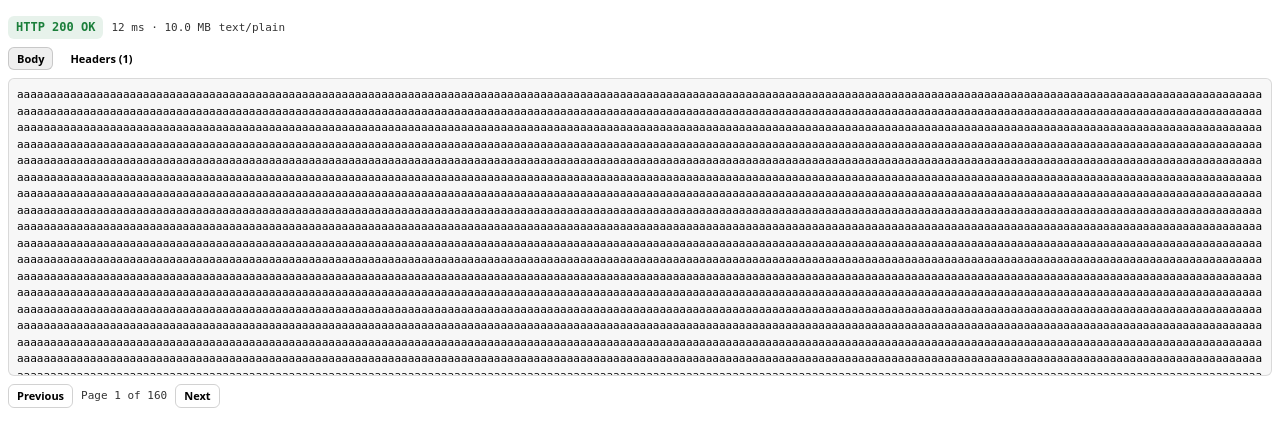
ResponseView › renders a 10 MB body one page at a time
Expected: the text "12 ms · 10.0 MB" is shown, [112, 20, 211, 35]
Expected: the text "Page 1 of 160" is shown, [81, 388, 167, 404]
Click the button "Next" at point(197, 396), box [175, 384, 220, 408]
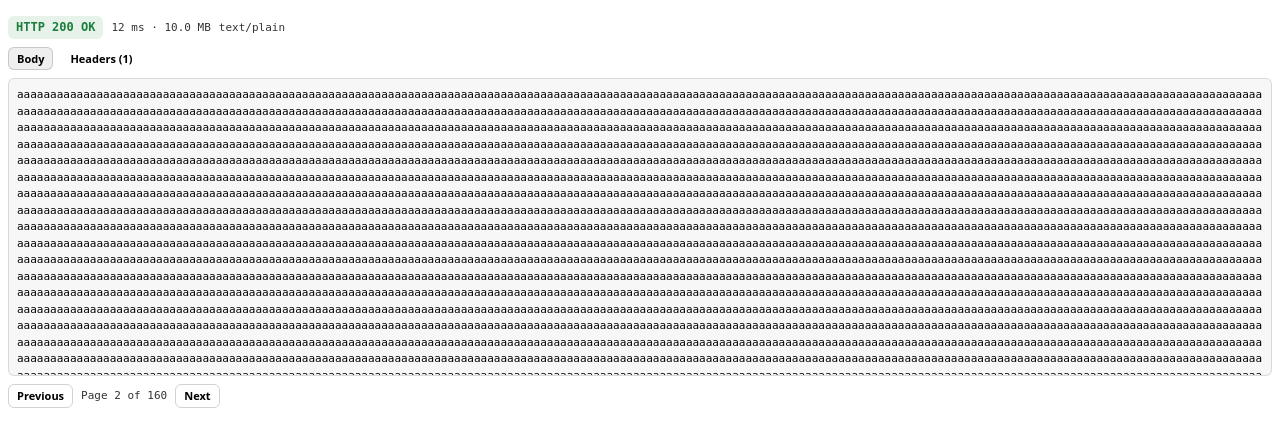
Expected: the text "Page 2 of 160" is shown, [81, 388, 167, 404]
Click the button "Previous" at point(41, 396), box [8, 384, 73, 408]
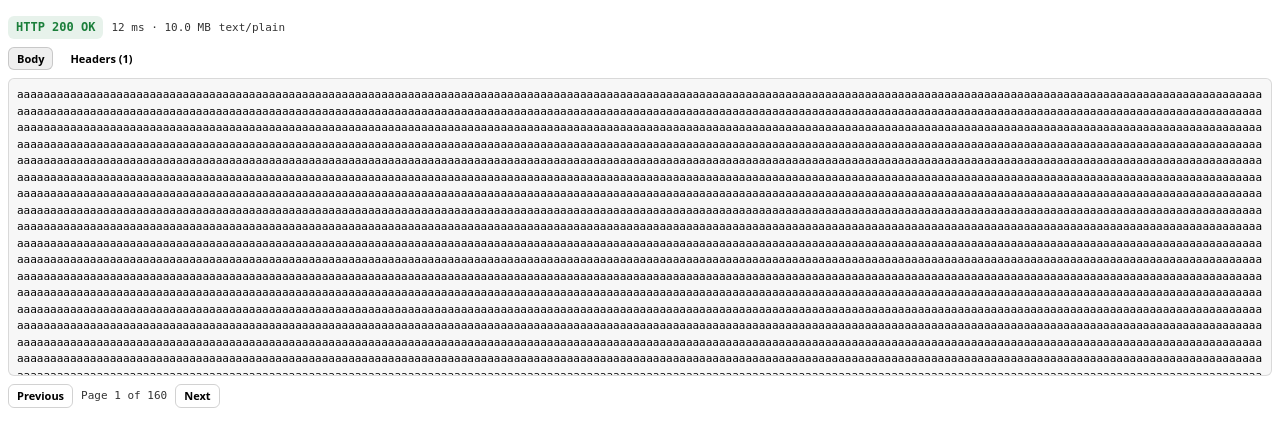
Expected: the text "Page 1 of 160" is shown, [81, 388, 167, 404]
